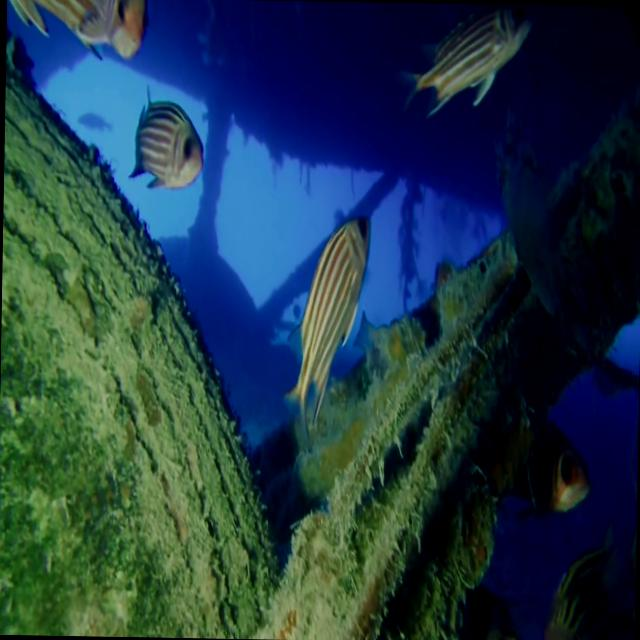Asker Baligi: (280, 210, 370, 450), (392, 2, 530, 144), (126, 82, 204, 191)
